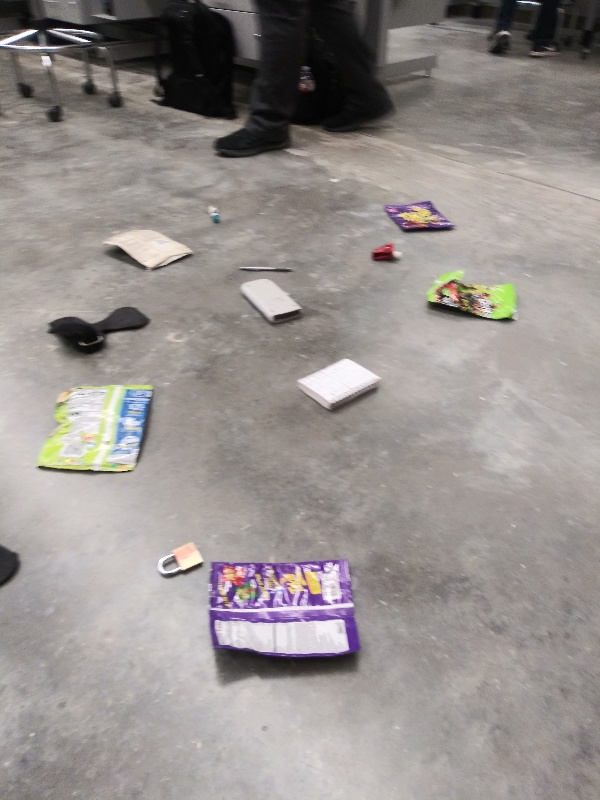bag: (203, 554, 364, 667), (33, 377, 159, 478), (417, 268, 522, 325), (101, 226, 197, 275), (377, 196, 460, 237)
bottle: (293, 60, 317, 92)
